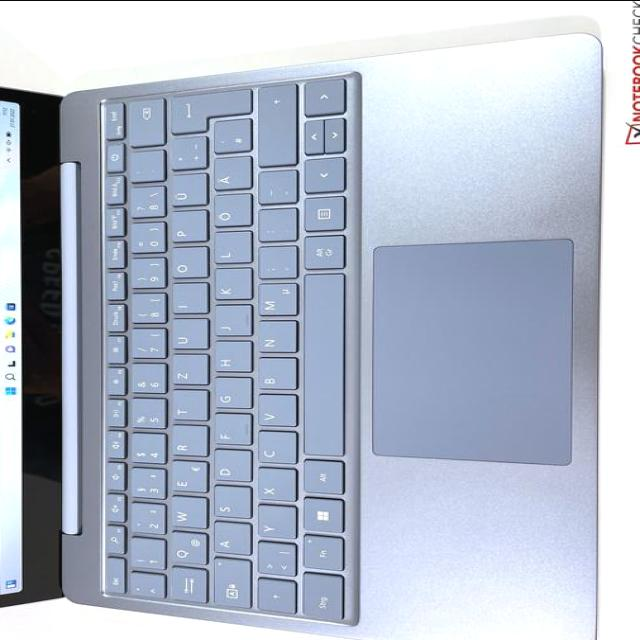0: (126, 225, 162, 257)
1: (124, 540, 162, 573)
2: (124, 505, 162, 538)
3: (124, 470, 162, 502)
4: (126, 436, 162, 467)
5: (126, 401, 162, 432)
6: (125, 366, 163, 397)
7: (125, 331, 163, 362)
8: (125, 297, 163, 327)
9: (124, 261, 163, 292)
a: (208, 525, 248, 558)
accent: (124, 149, 163, 185)
ae: (208, 159, 248, 193)
alt-left: (297, 461, 340, 497)
altgr-right: (299, 237, 342, 273)
b: (252, 360, 294, 394)
c: (252, 433, 294, 467)
caret: (126, 575, 162, 601)
comma: (252, 248, 294, 282)
d: (209, 452, 249, 485)
del: (123, 100, 162, 149)
e: (166, 463, 205, 496)
enter: (165, 92, 247, 136)
f: (209, 416, 248, 448)
g: (209, 380, 248, 412)
h: (209, 344, 248, 376)
hash: (208, 122, 248, 156)
i: (166, 286, 205, 317)
j: (209, 308, 249, 339)
k: (209, 270, 248, 303)
keyboard: (89, 69, 361, 631)
l: (209, 234, 249, 266)
less: (251, 544, 294, 580)
m: (252, 286, 295, 319)
minus: (253, 174, 293, 209)
n: (252, 323, 294, 356)
o: (166, 250, 205, 282)
oe: (208, 196, 250, 230)
p: (165, 214, 204, 246)
plus: (164, 139, 204, 173)
point: (253, 211, 293, 244)
q: (165, 534, 205, 568)
r: (166, 428, 205, 459)
s: (209, 489, 248, 521)
shift-left: (252, 581, 294, 616)
shift-lock: (208, 560, 248, 611)
shift-right: (251, 88, 294, 170)
space: (297, 275, 343, 459)
ss: (124, 190, 162, 222)
strg-left: (296, 575, 340, 626)
t: (166, 392, 205, 424)
tab: (165, 569, 205, 605)
u: (166, 321, 206, 352)
ue: (165, 176, 205, 210)
v: (252, 397, 294, 430)
w: (165, 499, 204, 532)
x: (252, 470, 294, 505)
y: (252, 508, 294, 542)
z: (166, 357, 205, 388)
